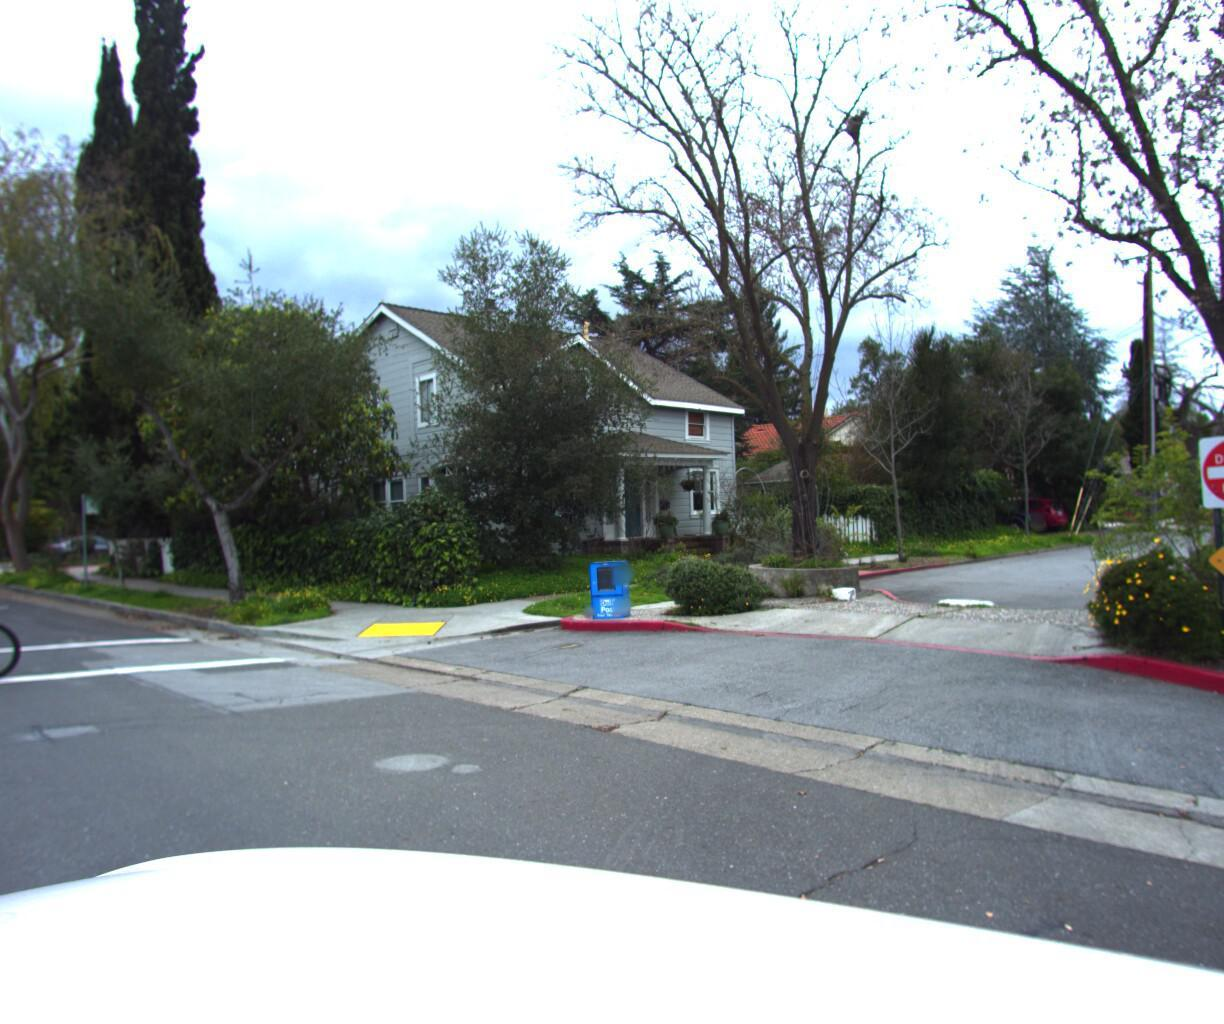bicycle: (0, 513, 36, 709)
car: (929, 494, 1052, 537), (954, 494, 1072, 534), (43, 532, 140, 564)
